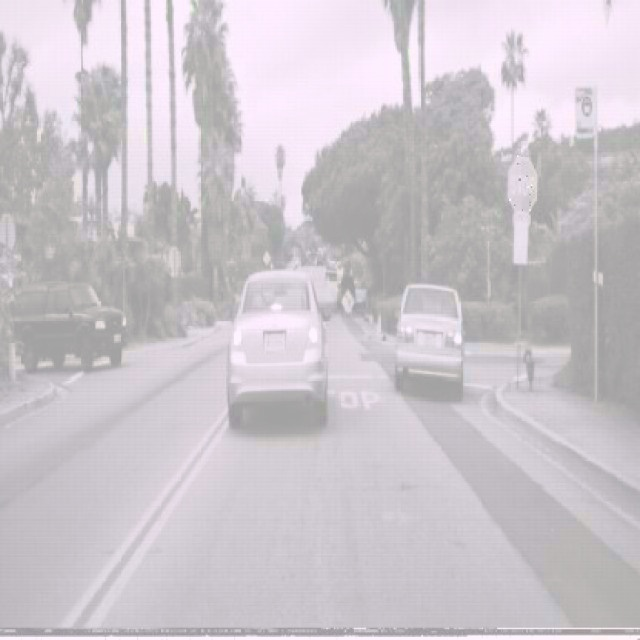stop: (508, 155, 537, 217)
